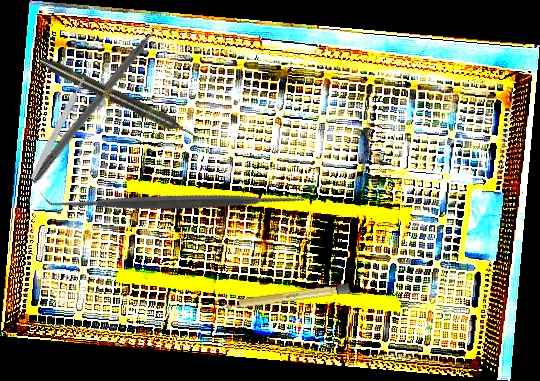Handpiece: (36, 53, 199, 143)
Pusher: (28, 8, 176, 186)
Scalpel Handle: (29, 76, 87, 181), (220, 283, 351, 311)
Spatula Surgical: (39, 64, 314, 339)
